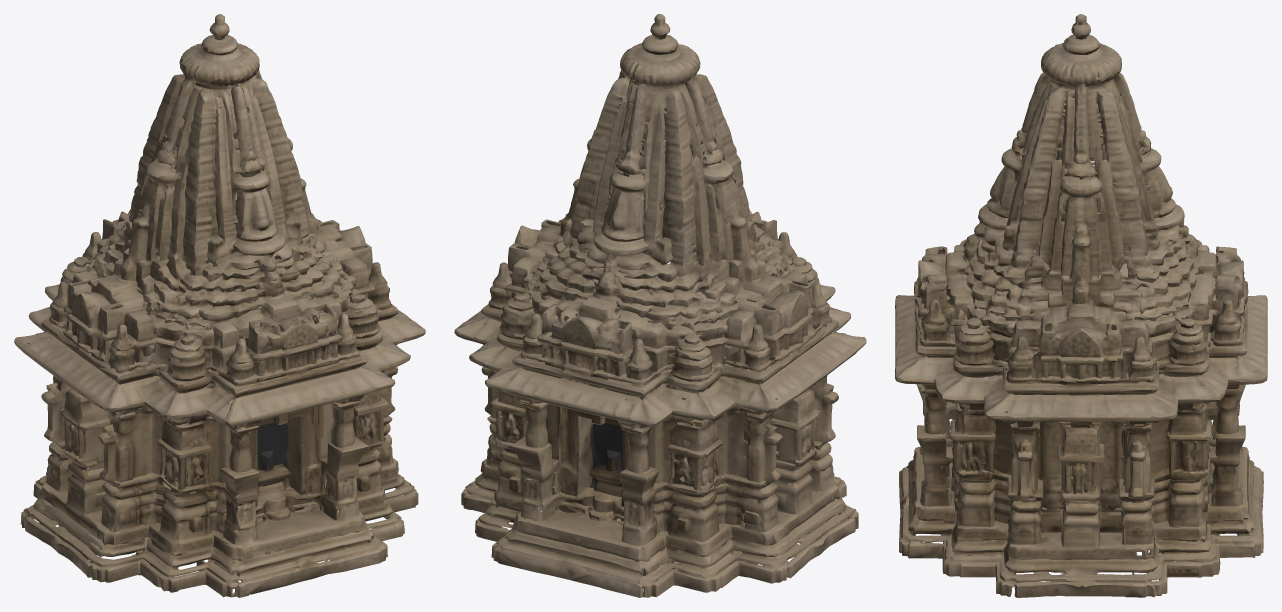
The model's file is temple.glb.
3 renders of one model, left to right at view 1: azimuth 30°, elevation 25°; view 2: azimuth 150°, elevation 25°; view 3: azimuth 270°, elevation 25°, orthographic.
Visible parts, largest first — view 1: geometry_0; view 2: geometry_0; view 3: geometry_0.
Part boxes in pixels (x1=…): geometry_0: x1=14, y1=14, x2=425, y2=597; geometry_0: x1=454, y1=14, x2=866, y2=597; geometry_0: x1=895, y1=14, x2=1267, y2=597.
Size of the model in its own units: 0.307 by 0.45 by 0.3015.
Materials: 1 (1 with a texture image).
